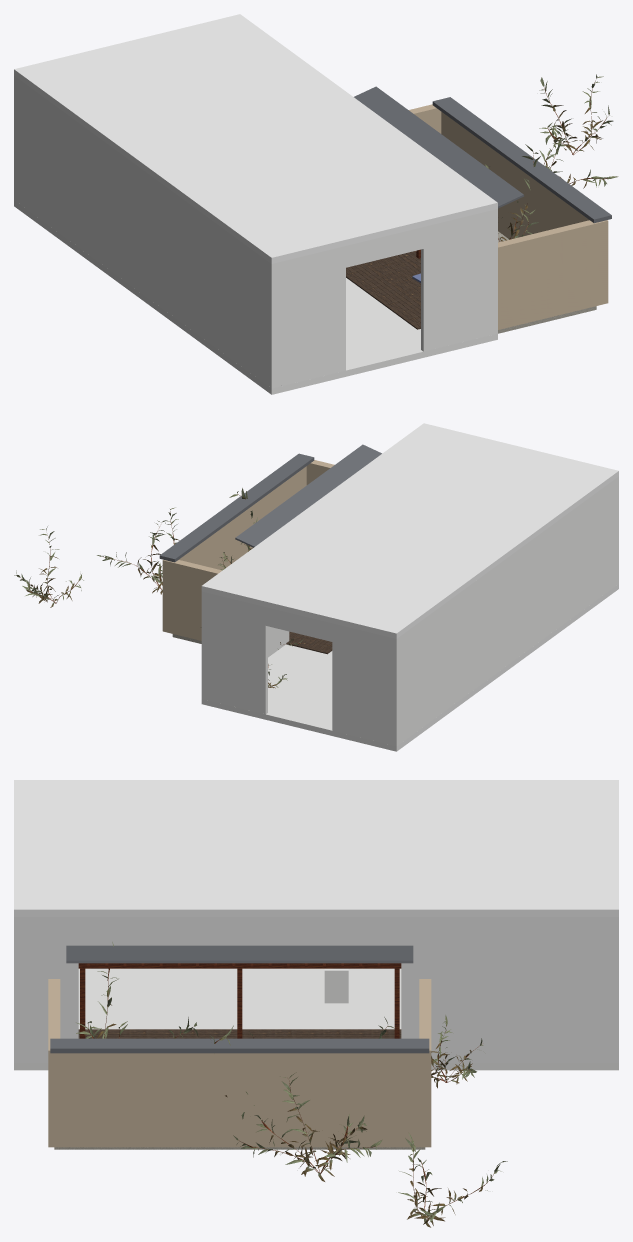
The model's file is room_engawa_s2.glb.
3 views of the same model, one above another, from view 1: azimuth 30°, elevation 25°; view 2: azimuth 150°, elevation 25°; view 3: azimuth 270°, elevation 25° (orthographic). The views are drawn at different scales.
Parts seen in each view (by area): view 1: room_engawa_s2_static; view 2: room_engawa_s2_static; view 3: room_engawa_s2_static.
Part boxes in pixels (x1,y1,x2,y2): room_engawa_s2_static: (14,14,618,394); room_engawa_s2_static: (14,423,618,751); room_engawa_s2_static: (14,780,618,1227).
Bounding box in the file's own units: 17.56 × 5.08 × 15.
19 materials, 7 textured.
